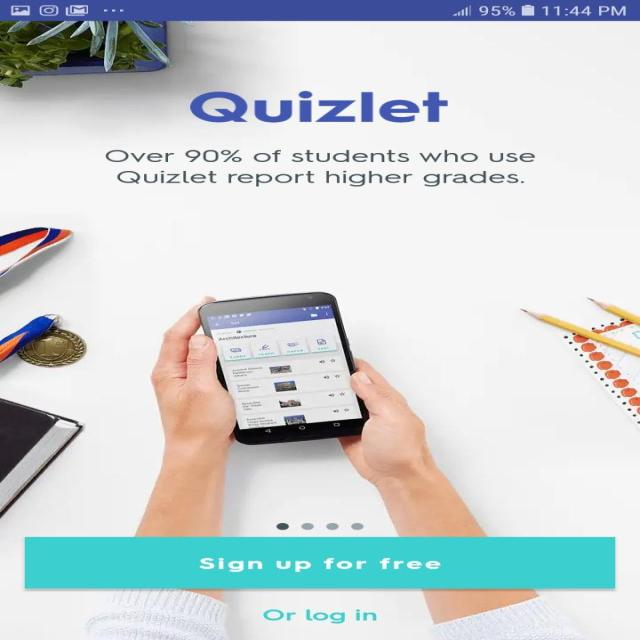BackgroundImage: (0, 21, 639, 639)
Text: (104, 150, 534, 187), (189, 91, 448, 123), (263, 609, 377, 624)
TextButton: (24, 536, 614, 589)
